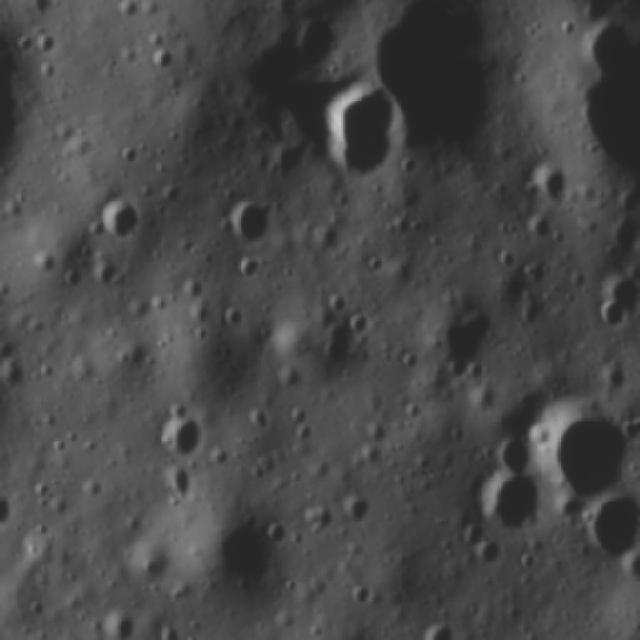crater: (368, 0, 509, 149), (196, 501, 296, 612), (312, 75, 396, 190), (529, 407, 629, 502), (427, 298, 507, 391), (564, 488, 640, 576), (477, 466, 548, 534), (581, 271, 640, 340), (153, 407, 215, 470), (312, 317, 363, 381), (88, 193, 150, 245), (215, 202, 277, 253), (126, 538, 177, 588), (532, 156, 577, 212), (100, 609, 148, 640), (521, 208, 557, 248), (151, 46, 186, 76), (414, 614, 454, 640), (0, 485, 15, 542), (444, 638, 494, 640)
